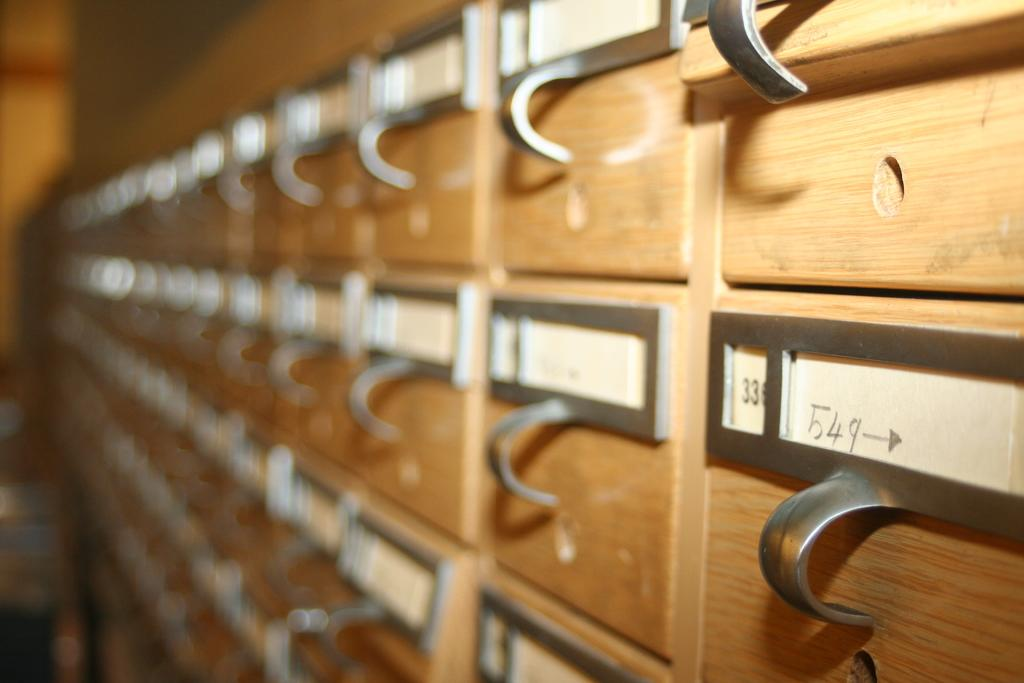cabinet_door: (719, 306, 1024, 678), (716, 28, 1024, 300), (495, 317, 683, 592), (498, 33, 686, 268), (362, 302, 478, 502), (365, 75, 484, 269), (286, 92, 370, 254)
handle: (752, 470, 898, 630), (718, 6, 836, 124), (488, 397, 572, 517), (502, 64, 576, 168), (350, 354, 418, 454), (355, 118, 420, 204), (267, 136, 321, 211)
